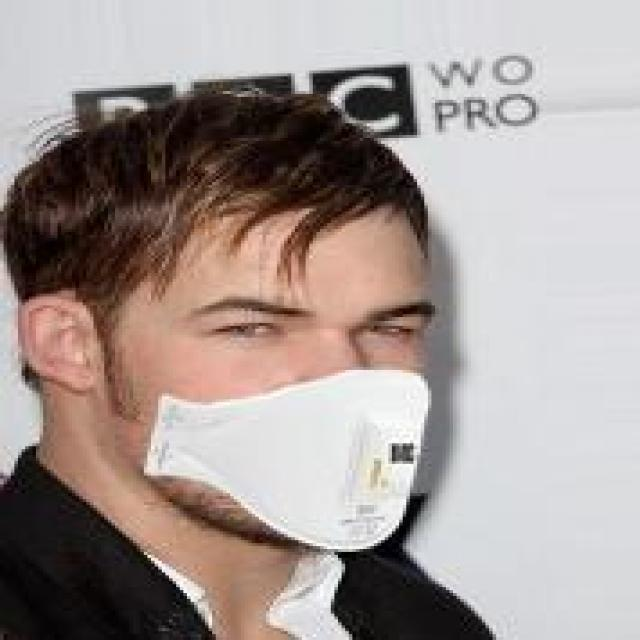mask: (18, 73, 507, 570)
